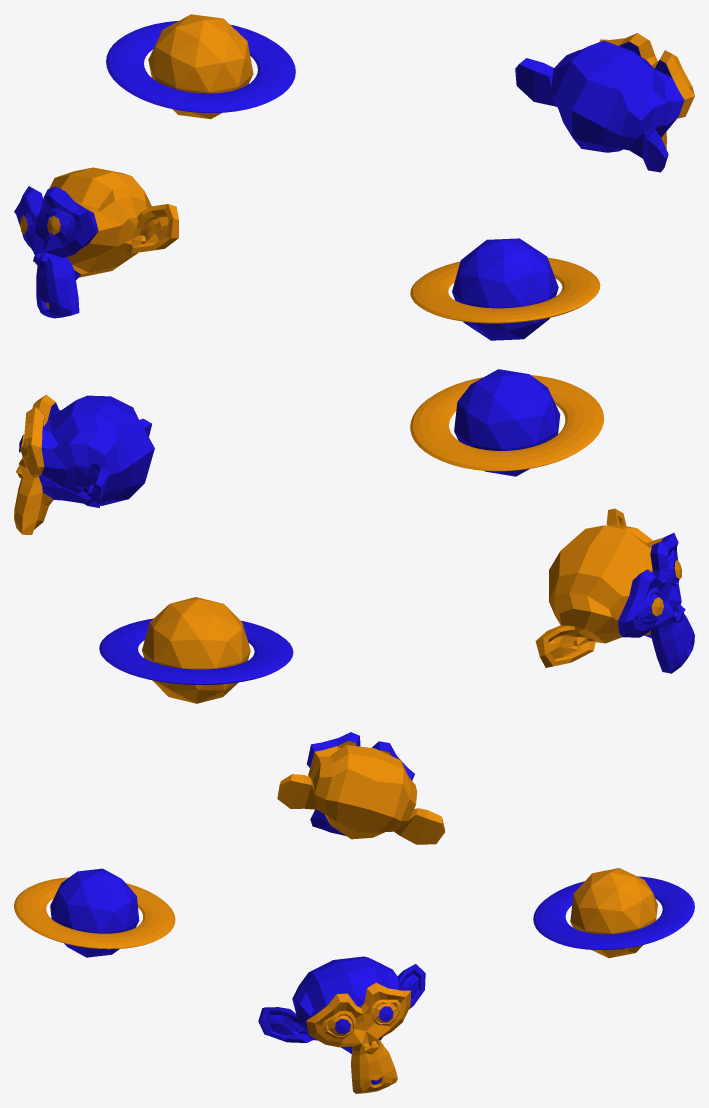
Rendered from Confused.fbx.
3 renders of one model, top to bottom at view 1: azimuth 30°, elevation 25°; view 2: azimuth 150°, elevation 25°; view 3: azimuth 270°, elevation 25°, orthographic. The views are drawn at different scales.
Parts seen in each view (by area): view 1: Suzanne.001; view 2: Suzanne.001; view 3: Suzanne.001.
Part boxes in pixels (<box>): Suzanne.001: <box>14,14,694,340</box>; Suzanne.001: <box>14,369,694,703</box>; Suzanne.001: <box>14,732,694,1093</box>.
Bounding box in the file's own units: 972 × 187 × 1049.
